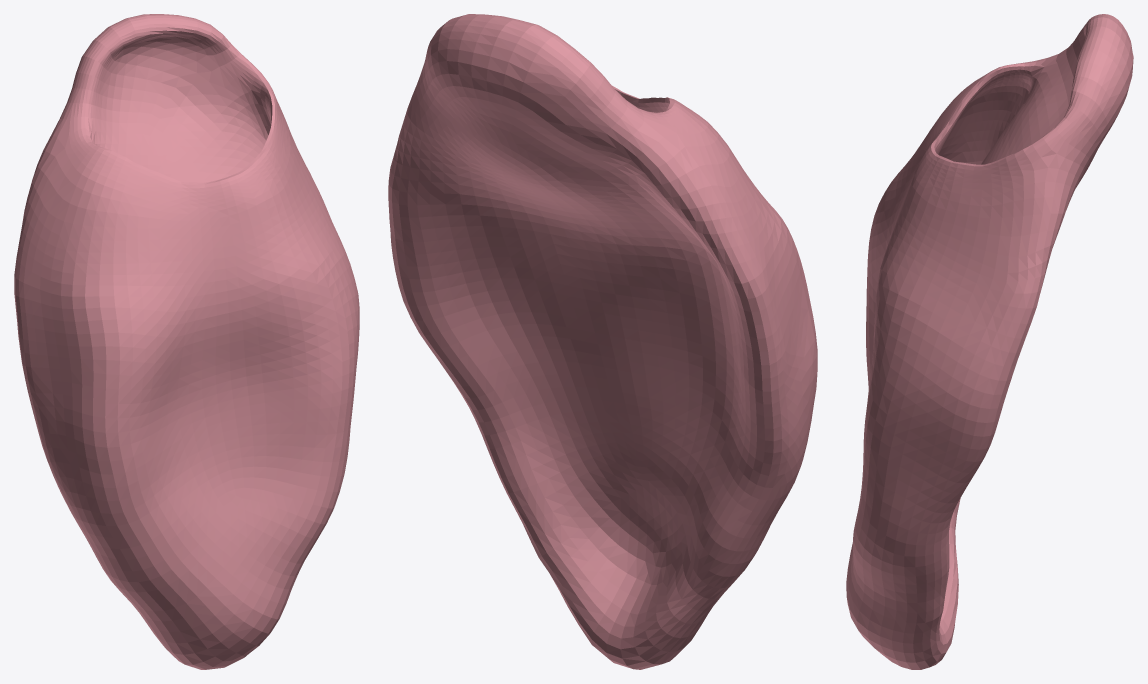
Rendered from vagina.glb.
The picture shows the model from 3 angles, left to right: view 1: azimuth 30°, elevation 25°; view 2: azimuth 150°, elevation 25°; view 3: azimuth 270°, elevation 25°; orthographic projection. The views are drawn at different scales.
Parts seen in each view (by area): view 1: vagina; view 2: vagina; view 3: vagina.
Boxes of the visible parts, x1,y1,x2,y2 form: vagina: [14, 14, 359, 669]; vagina: [388, 14, 817, 669]; vagina: [846, 14, 1133, 669].
Size of the model in its own units: 0.0445 by 0.0778 by 0.0313.
